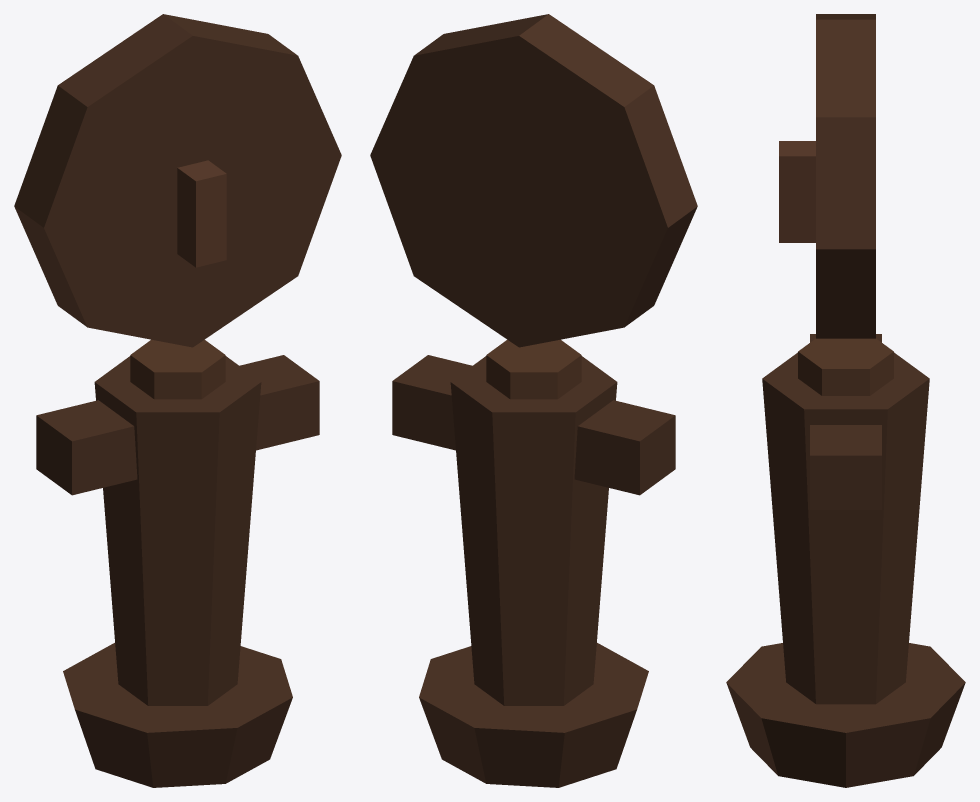
Rendered from sculpture-45.glb.
3 renders of one model, left to right at view 1: azimuth 30°, elevation 25°; view 2: azimuth 150°, elevation 25°; view 3: azimuth 270°, elevation 25°, orthographic.
Parts seen in each view (by area): view 1: sculpture_45; view 2: sculpture_45; view 3: sculpture_45.
Part boxes in pixels (left/top/right/bottom): sculpture_45: left=14, top=14, right=341, bottom=787; sculpture_45: left=370, top=14, right=697, bottom=787; sculpture_45: left=726, top=14, right=965, bottom=787.
Bounding box in the file's own units: 0.2 × 0.4647 × 0.1386.
